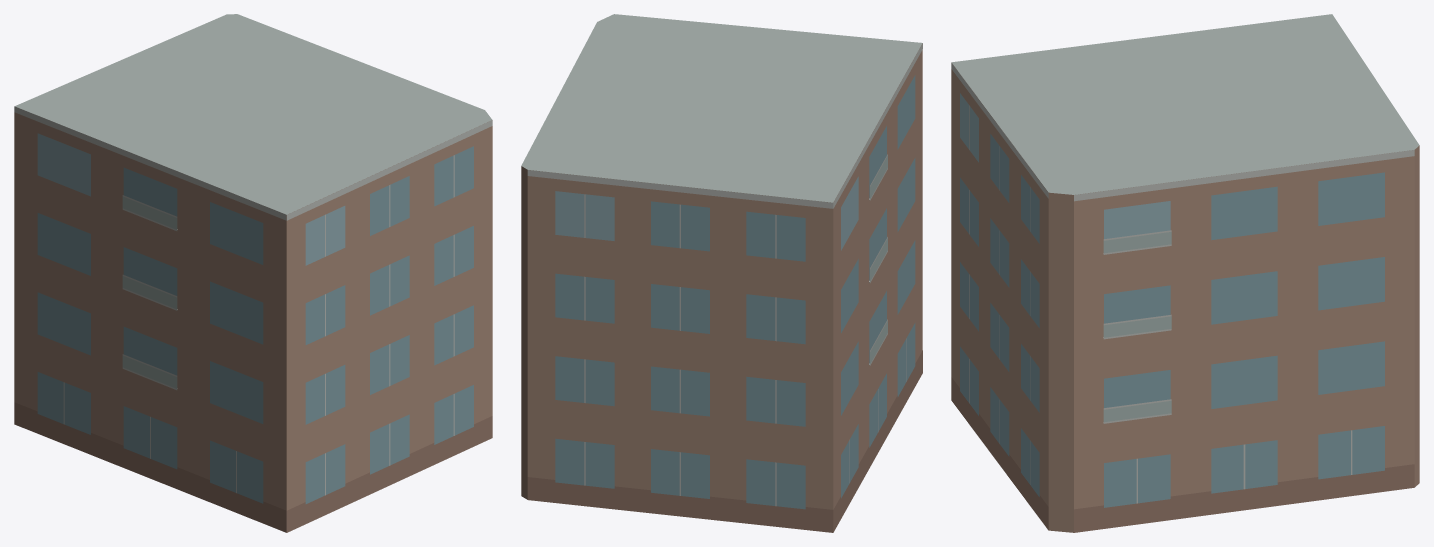
The model's file is survey-upis-32863975.glb.
3 renders of one model, left to right at view 1: azimuth 30°, elevation 25°; view 2: azimuth 150°, elevation 25°; view 3: azimuth 270°, elevation 25°, orthographic. The views are drawn at different scales.
Parts seen in each view (by area): view 1: survey-upis-32863975.tmp; view 2: survey-upis-32863975.tmp; view 3: survey-upis-32863975.tmp.
Boxes of the visible parts, x1,y1,x2,y2 form: survey-upis-32863975.tmp: (14,14,492,532); survey-upis-32863975.tmp: (521,14,922,532); survey-upis-32863975.tmp: (951,14,1419,532).
Bounding box in the file's own units: 14.94 × 13 × 16.34.
